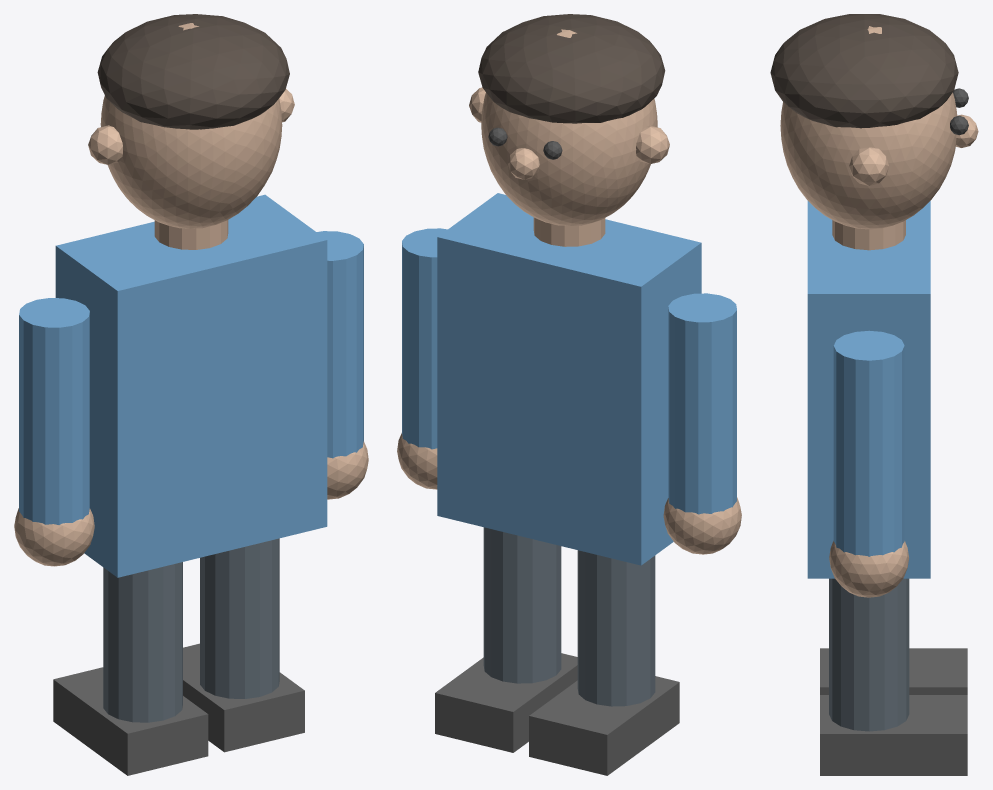
Rendered from student_blue.glb.
The picture shows the model from 3 angles, left to right: view 1: azimuth 30°, elevation 25°; view 2: azimuth 150°, elevation 25°; view 3: azimuth 270°, elevation 25°; orthographic projection. The views are drawn at different scales.
Parts seen in each view (by area): view 1: torso, hair, armL, head, legL, legR, shoeL, armR, shoeR, handL, handR, neck (+1 smaller); view 2: torso, hair, armL, head, legL, legR, shoeL, armR, shoeR, handL, handR, neck (+2 smaller); view 3: torso, hair, armR, head, legR, shoeR, shoeL, handR, neck, earR, nose.
Boxes of the visible parts, box(x1,y1,x2,y2) form: torso: box(55, 194, 327, 577); hair: box(97, 14, 289, 129); armL: box(19, 298, 89, 524); head: box(100, 23, 282, 228); legL: box(103, 562, 182, 722); legR: box(200, 538, 279, 698); shoeL: box(53, 667, 208, 775); armR: box(317, 231, 363, 458); shoeR: box(183, 643, 304, 752); handL: box(14, 508, 94, 566); handR: box(327, 441, 368, 499); neck: box(154, 220, 228, 249); torso: box(437, 193, 701, 565); hair: box(478, 14, 665, 123); armL: box(668, 293, 736, 514); head: box(481, 29, 657, 225); legL: box(577, 550, 655, 706); legR: box(483, 527, 561, 683); shoeL: box(529, 676, 679, 775); armR: box(402, 228, 447, 449); shoeR: box(435, 653, 577, 752); handL: box(663, 497, 741, 554); handR: box(397, 433, 437, 489); neck: box(533, 217, 605, 246); torso: box(807, 201, 930, 578); hair: box(770, 14, 958, 128); armR: box(833, 330, 904, 556); head: box(780, 26, 957, 229); legR: box(829, 578, 909, 731); shoeR: box(820, 695, 967, 775); shoeL: box(820, 648, 967, 694); handR: box(829, 541, 908, 597); neck: box(832, 220, 905, 250); earR: box(849, 147, 888, 185); nose: box(956, 114, 978, 147).
Size of the model in its own units: 1.28 by 2.52 by 0.6755.
